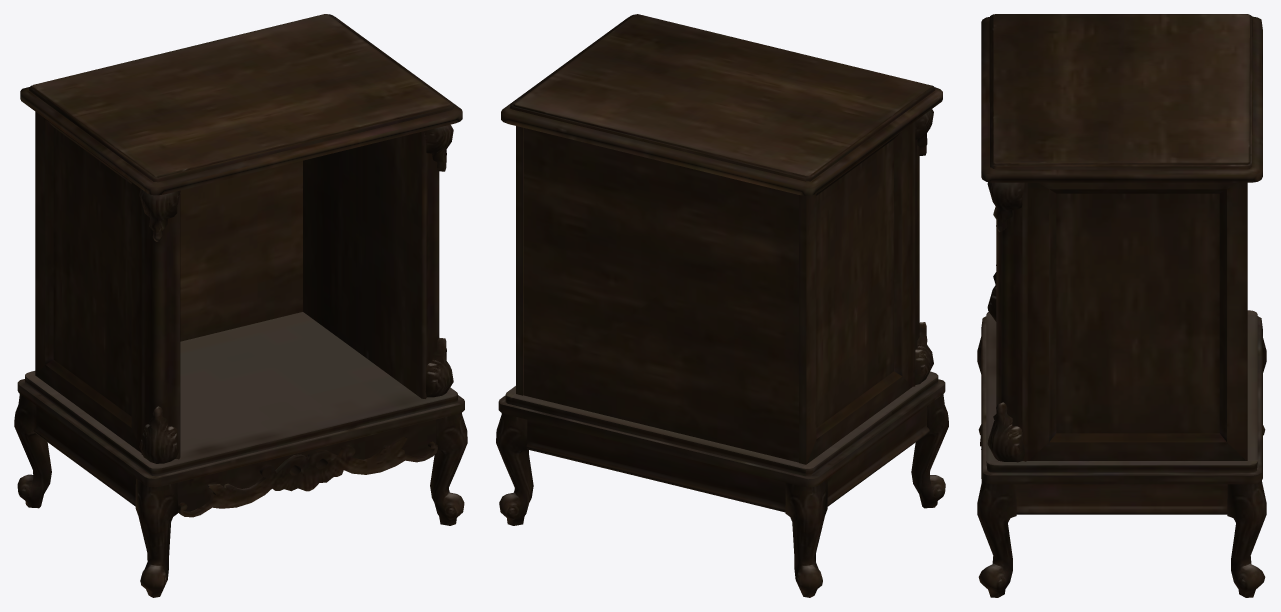
File: ClassicNightstand_01.glb
3 views of the same model, side by side, from view 1: azimuth 30°, elevation 25°; view 2: azimuth 150°, elevation 25°; view 3: azimuth 270°, elevation 25° (orthographic). The views are drawn at different scales.
Visible parts, largest first — view 1: ClassicNightstand_01; view 2: ClassicNightstand_01; view 3: ClassicNightstand_01.
Boxes of the visible parts, left/top/right/bottom form: ClassicNightstand_01: left=14, top=14, right=467, bottom=597; ClassicNightstand_01: left=496, top=14, right=948, bottom=597; ClassicNightstand_01: left=977, top=14, right=1266, bottom=597.
Size of the model in its own units: 0.5678 by 0.7 by 0.4242.
Materials: 1 (1 with a texture image).
